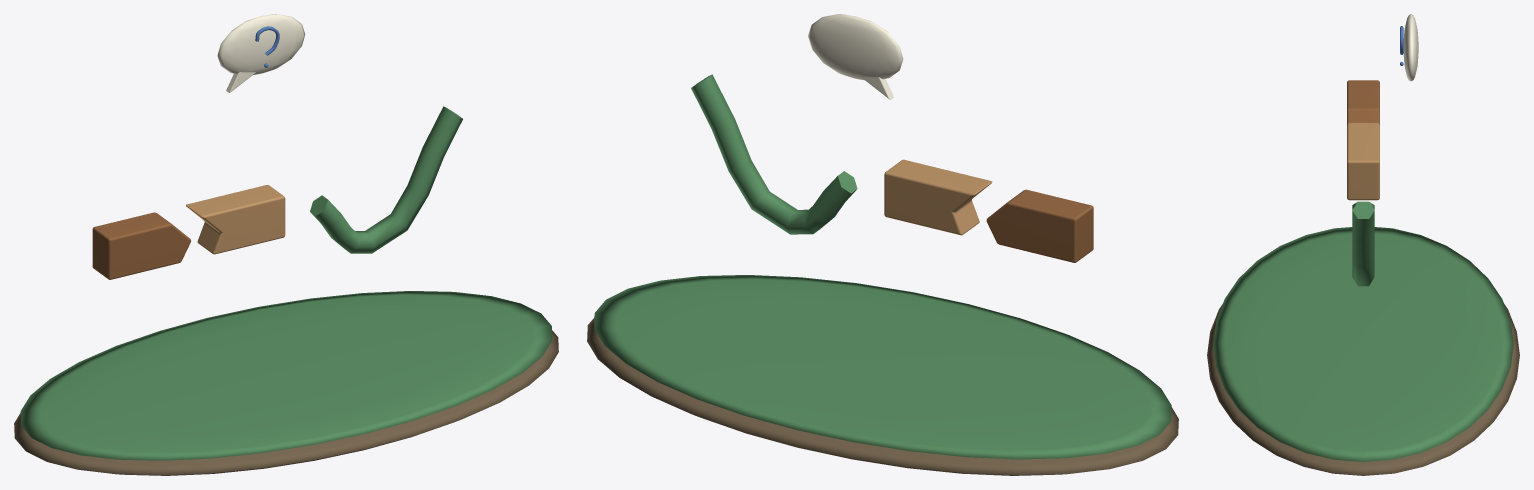
File: complete-third-mistaken-understanding.glb
3 renders of one model, left to right at view 1: azimuth 30°, elevation 25°; view 2: azimuth 150°, elevation 25°; view 3: azimuth 270°, elevation 25°, orthographic. The views are drawn at different scales.
Visible parts, largest first — view 1: complete-third-mistaken-understanding_surface_01, complete-third-mistaken-understanding_surface_00, complete-third-mistaken-understanding_surface_02, complete-third-mistaken-understanding_surface_03, complete-third-mistaken-understanding_surface_04; view 2: complete-third-mistaken-understanding_surface_01, complete-third-mistaken-understanding_surface_00, complete-third-mistaken-understanding_surface_02, complete-third-mistaken-understanding_surface_03, complete-third-mistaken-understanding_surface_04; view 3: complete-third-mistaken-understanding_surface_01, complete-third-mistaken-understanding_surface_00, complete-third-mistaken-understanding_surface_03, complete-third-mistaken-understanding_surface_02, complete-third-mistaken-understanding_surface_04.
Boxes of the visible parts, bbox=[...] form: complete-third-mistaken-understanding_surface_01: bbox=[20, 106, 552, 460]; complete-third-mistaken-understanding_surface_00: bbox=[14, 330, 558, 475]; complete-third-mistaken-understanding_surface_02: bbox=[92, 212, 190, 279]; complete-third-mistaken-understanding_surface_03: bbox=[186, 185, 285, 254]; complete-third-mistaken-understanding_surface_04: bbox=[217, 14, 305, 92]; complete-third-mistaken-understanding_surface_01: bbox=[594, 74, 1171, 459]; complete-third-mistaken-understanding_surface_00: bbox=[587, 318, 1178, 475]; complete-third-mistaken-understanding_surface_02: bbox=[986, 189, 1093, 262]; complete-third-mistaken-understanding_surface_03: bbox=[884, 159, 992, 235]; complete-third-mistaken-understanding_surface_04: bbox=[808, 14, 903, 99]; complete-third-mistaken-understanding_surface_01: bbox=[1213, 201, 1513, 461]; complete-third-mistaken-understanding_surface_00: bbox=[1207, 304, 1519, 475]; complete-third-mistaken-understanding_surface_03: bbox=[1347, 123, 1379, 200]; complete-third-mistaken-understanding_surface_02: bbox=[1347, 80, 1379, 125]; complete-third-mistaken-understanding_surface_04: bbox=[1403, 14, 1418, 81].
Size of the model in its own units: 4.56 by 3.08 by 2.5.
